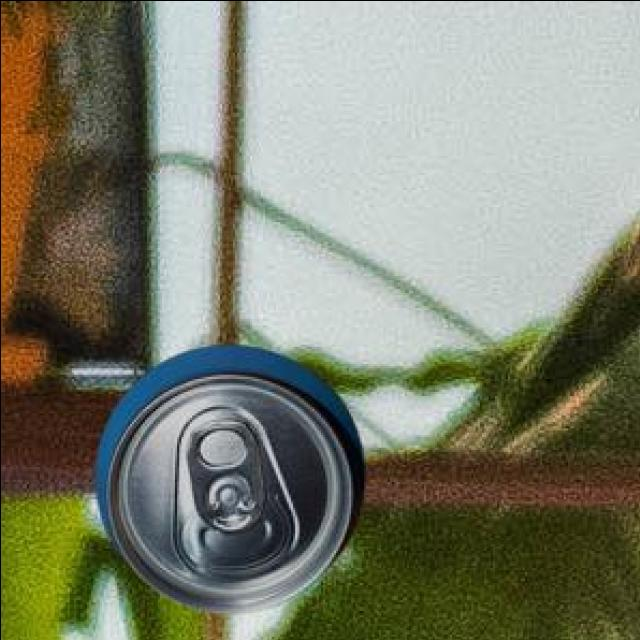logam: (98, 340, 366, 609)
